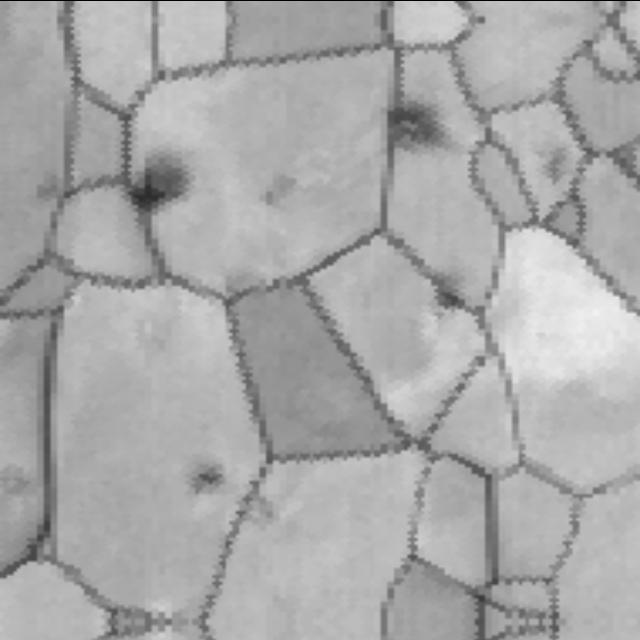good_void: (117, 138, 204, 225), (375, 102, 456, 163), (253, 161, 308, 215), (179, 449, 242, 494), (240, 485, 288, 531), (429, 266, 468, 321), (532, 134, 574, 185), (0, 461, 35, 501), (35, 170, 68, 211)
